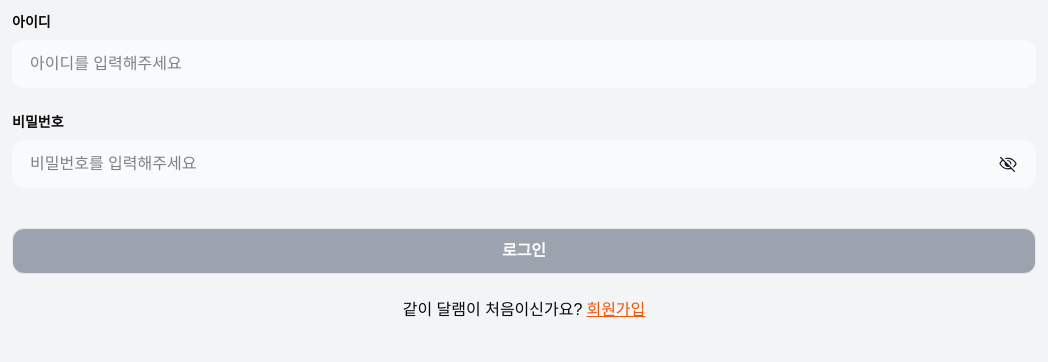
Test: SigninForm 통합 테스트 › 아이디 형식이 맞지 않으면 "이메일 형식이 올바르지 않습니다"라는 에러 메시지가 표시된다 › 입력 후 포커스 이동 (blur)
Type "viscacha@" into the field labelled "아이디". click: (524, 64)
box: [30, 52, 1018, 76]
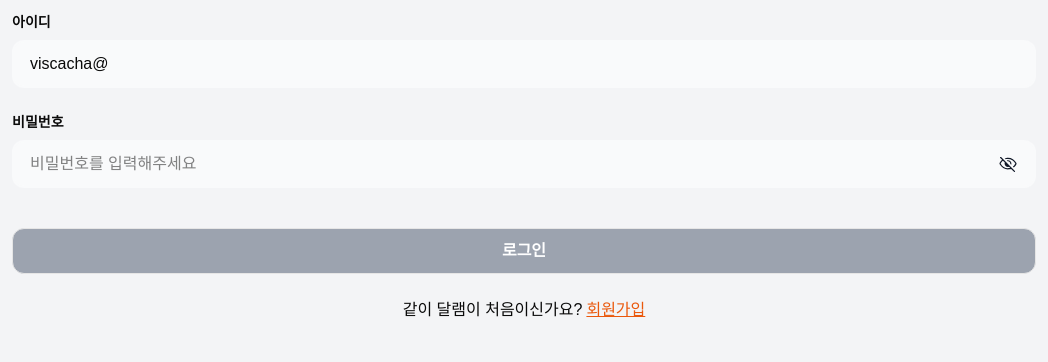
Leave the field labelled "아이디", box [30, 52, 1018, 76]
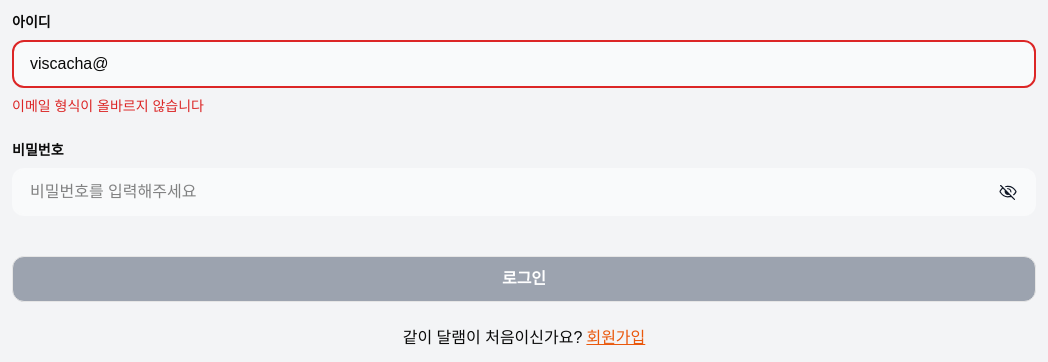
Expected: the text "이메일 형식이 올바르지 않습니다" is shown, [12, 98, 204, 114]
